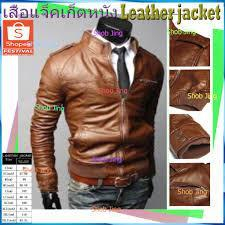jacket: (29, 29, 165, 191)
